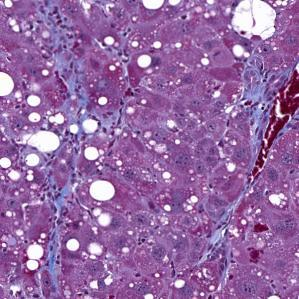fibrosis: (50, 21, 93, 116), (238, 62, 277, 145), (45, 182, 67, 276)
